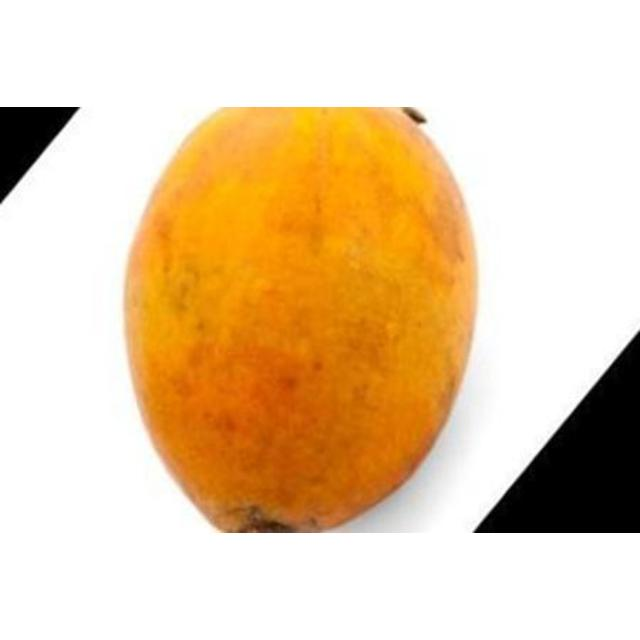good: (119, 107, 481, 532)
